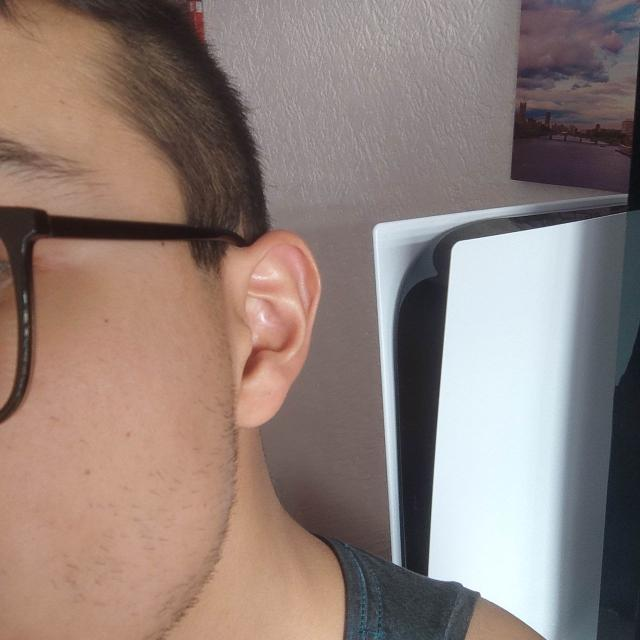ear: (230, 231, 320, 428)
